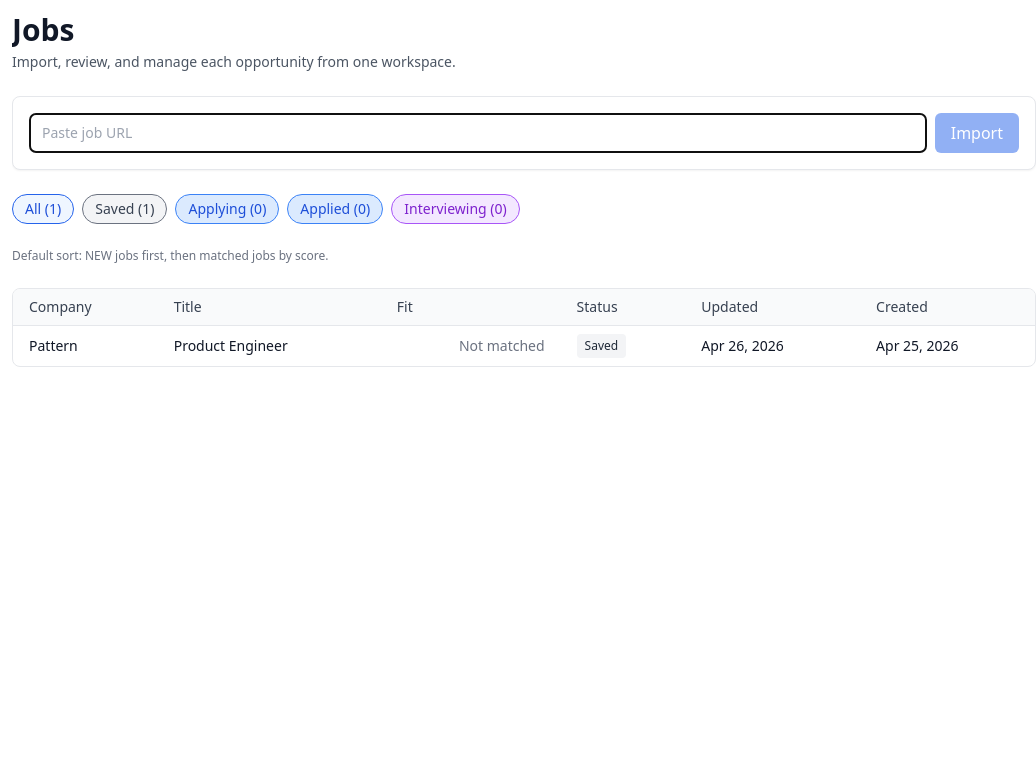
JobsPageClient › shows fallback copy when structured data or match analysis is missing
The image size is (1036, 780).
Click the row with test id "job-row": (524, 346) [13,326,1035,366]
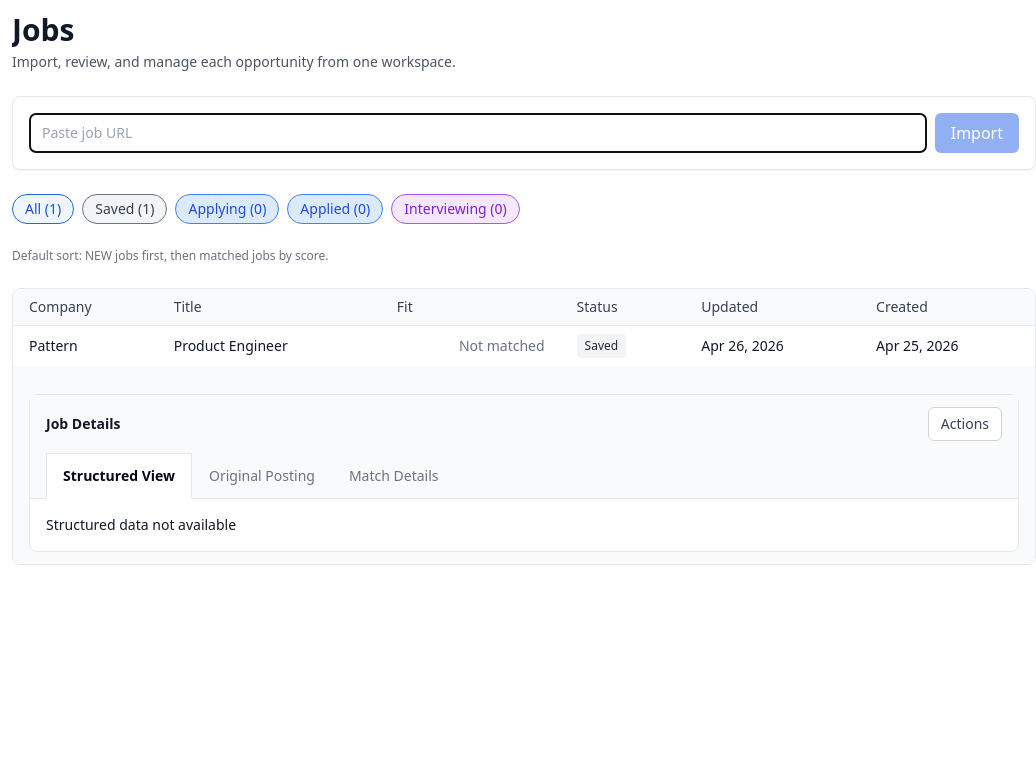
Check: the text "Structured data not available" is shown, box [46,515,236,534]
Click the tab "Match Details": (394, 476) [332,453,456,499]
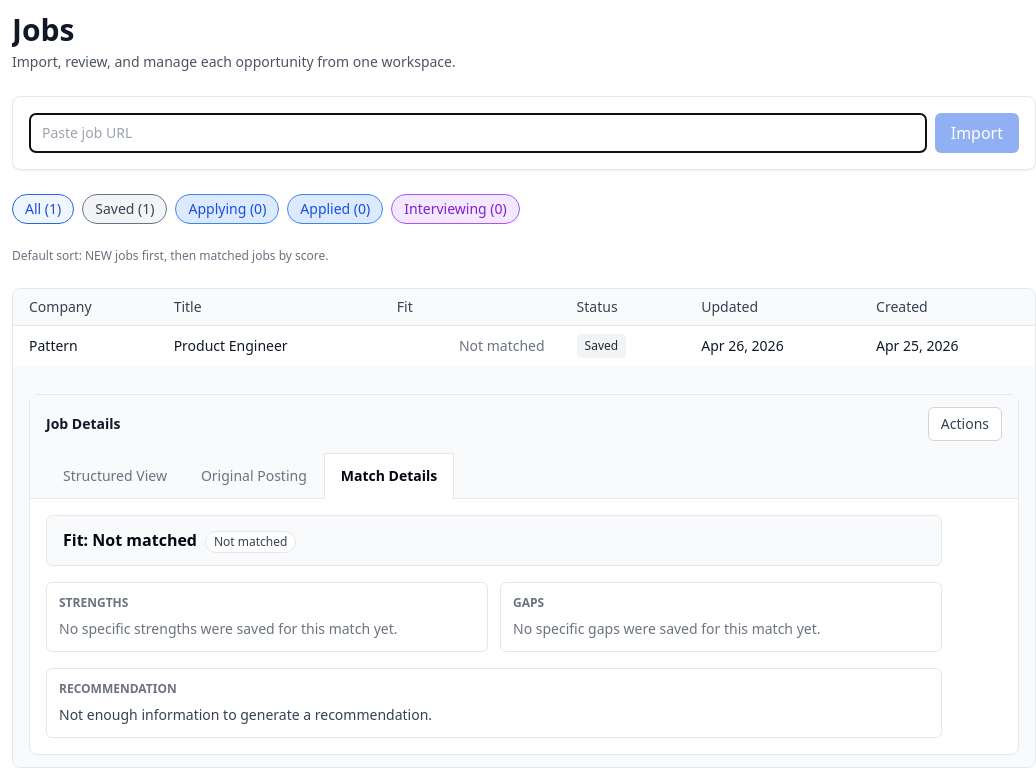
Check: the heading "Fit: Not matched" is shown, box [63,528,197,552]
Check: the text "Not enough information to generate a recommendation." is shown, box [59,705,432,724]
